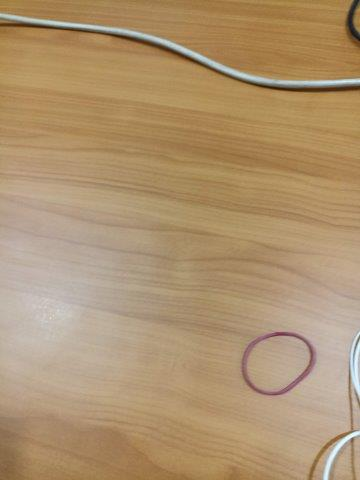karet: (242, 331, 316, 396)
